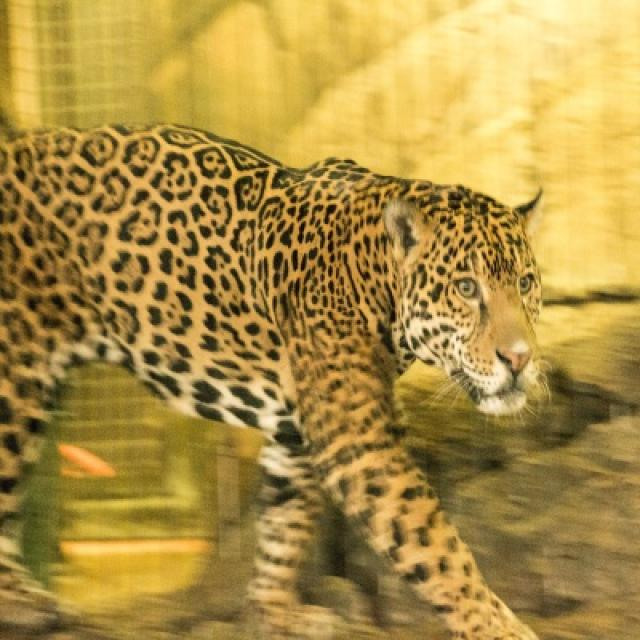Jaguar: (0, 125, 542, 638)
